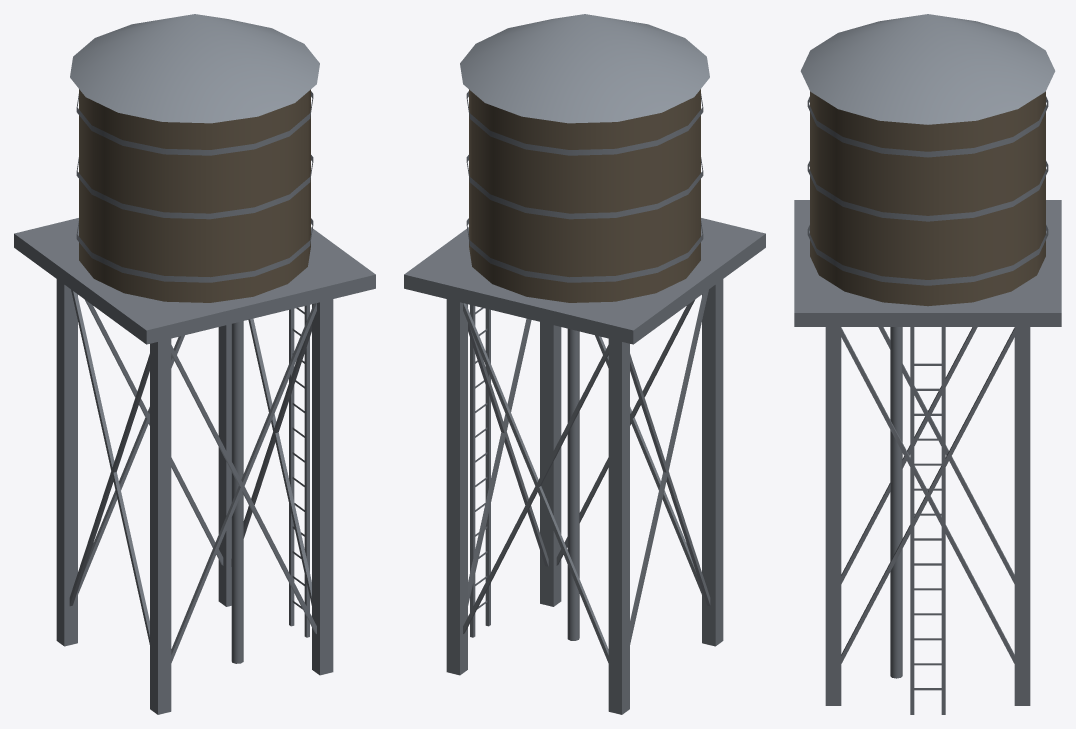
Rendered from roofprop_close.fbx.
The picture shows the model from 3 angles, left to right: view 1: azimuth 30°, elevation 25°; view 2: azimuth 150°, elevation 25°; view 3: azimuth 270°, elevation 25°; orthographic projection.
Parts seen in each view (by area): view 1: a2013/700/roofprop_close; view 2: a2013/700/roofprop_close; view 3: a2013/700/roofprop_close.
Boxes of the visible parts, x1,y1,x2,y2 form: a2013/700/roofprop_close: (14,14,375,714); a2013/700/roofprop_close: (404,14,765,714); a2013/700/roofprop_close: (794,14,1061,714).
Bounding box in the file's own units: 3.4 × 9.1 × 3.4.
